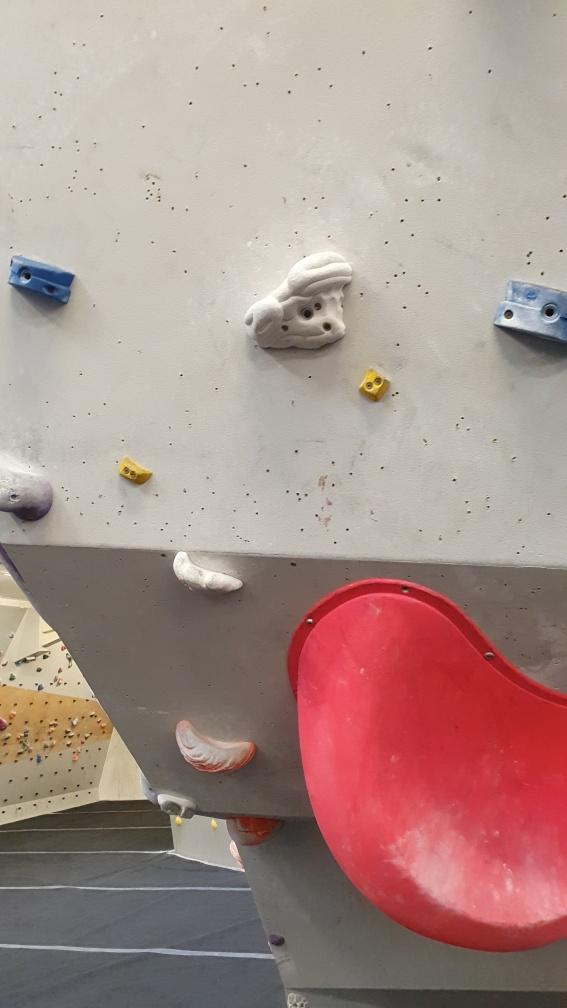Crimp: (115, 455, 155, 486)
Jug: (239, 249, 356, 354), (167, 715, 260, 772), (167, 547, 246, 597)
Pinch: (488, 272, 567, 345), (5, 253, 78, 303), (354, 365, 391, 401)
